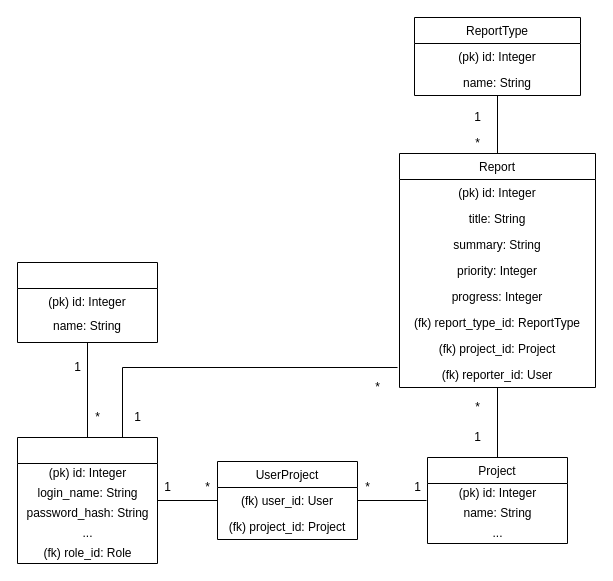
Image size: 613x581. Some labels were removed from this diagram. Each missing label, with the box of its shape:
Role: (16, 262, 158, 342)
User: (16, 436, 158, 564)
